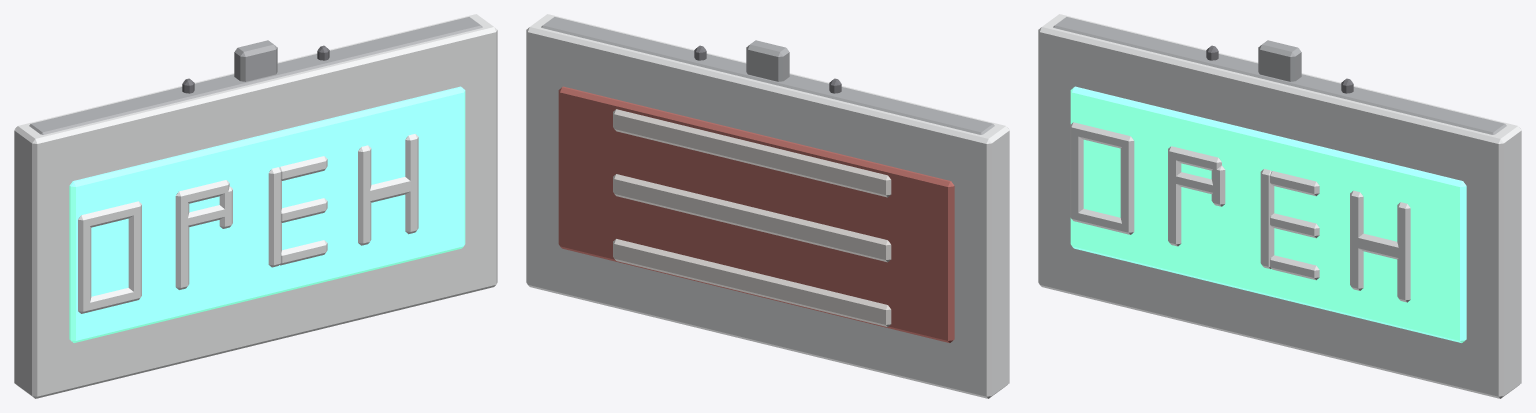
The model's file is prop_sign_open_closed_01.glb.
3 views of the same model, side by side, from view 1: azimuth 30°, elevation 25°; view 2: azimuth 150°, elevation 25°; view 3: azimuth 330°, elevation 25° (orthographic).
Parts seen in each view (by area): view 1: prop_sign_open_closed_01; view 2: prop_sign_open_closed_01; view 3: prop_sign_open_closed_01.
Part boxes in pixels (<box>): prop_sign_open_closed_01: <box>14,14,497,398</box>; prop_sign_open_closed_01: <box>526,14,1009,398</box>; prop_sign_open_closed_01: <box>1038,14,1521,398</box>.
Size of the model in its own units: 0.3 by 0.18 by 0.04.
